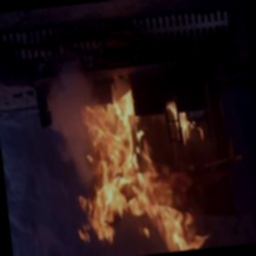fire: (59, 77, 226, 256)
